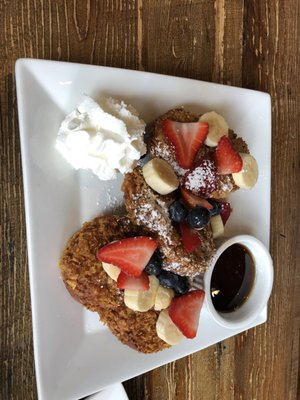pasta: (141, 156, 179, 196)
pizza: (203, 233, 275, 331)
sushi: (14, 58, 295, 382)
